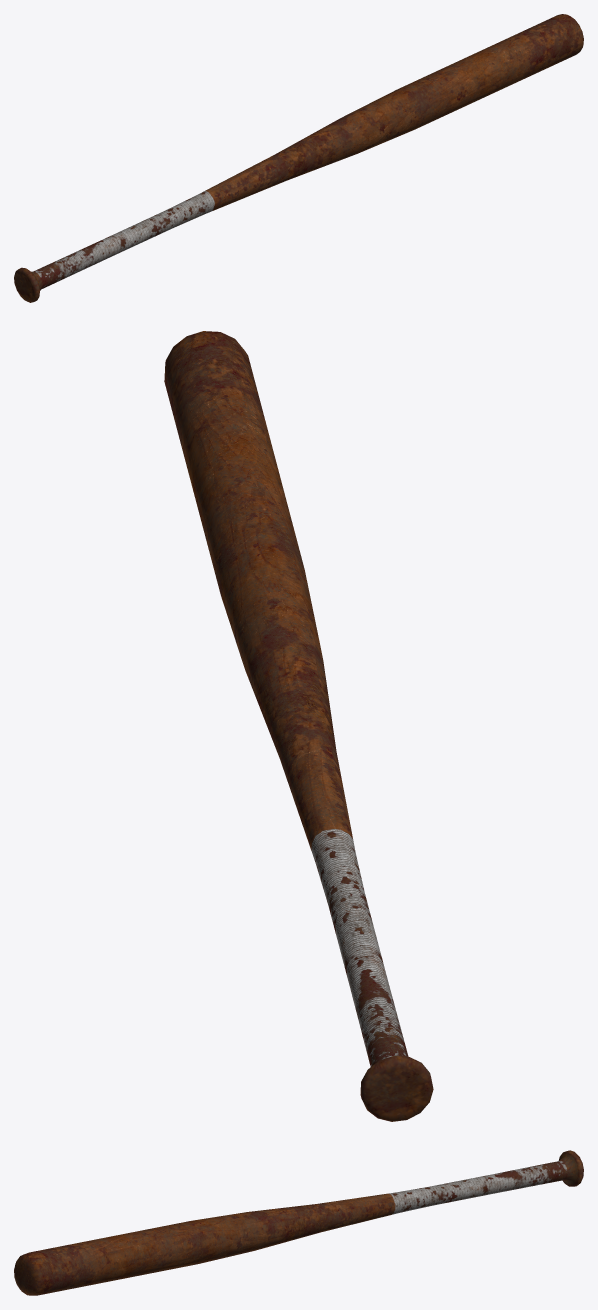
File: Anim_idle_bate_objetos.0049.obj
3 views of the same model, one above another, from view 1: azimuth 90°, elevation 25°; view 2: azimuth 150°, elevation 25°; view 3: azimuth 270°, elevation 25° (orthographic). The views are drawn at different scales.
Visible parts, largest first — view 1: Bate1; view 2: Bate1; view 3: Bate1.
Boxes of the visible parts, x1,y1,x2,y2 form: Bate1: (14, 14, 583, 302); Bate1: (164, 331, 433, 1121); Bate1: (14, 1150, 583, 1295).
Size of the model in its own units: 3.47 by 0.9104 by 4.33.
